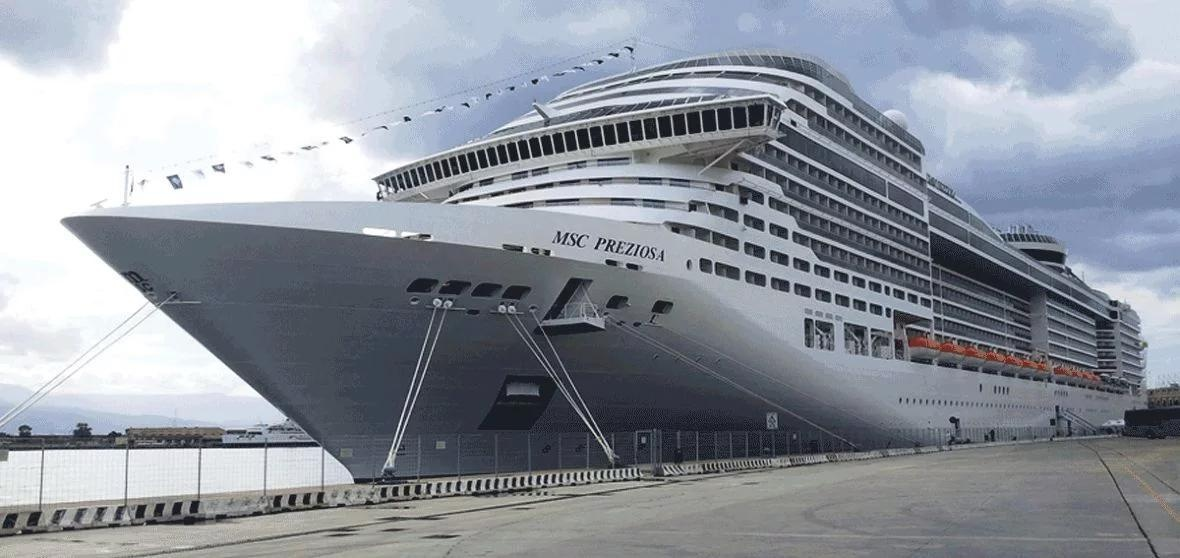youlun: (56, 38, 1152, 481)
